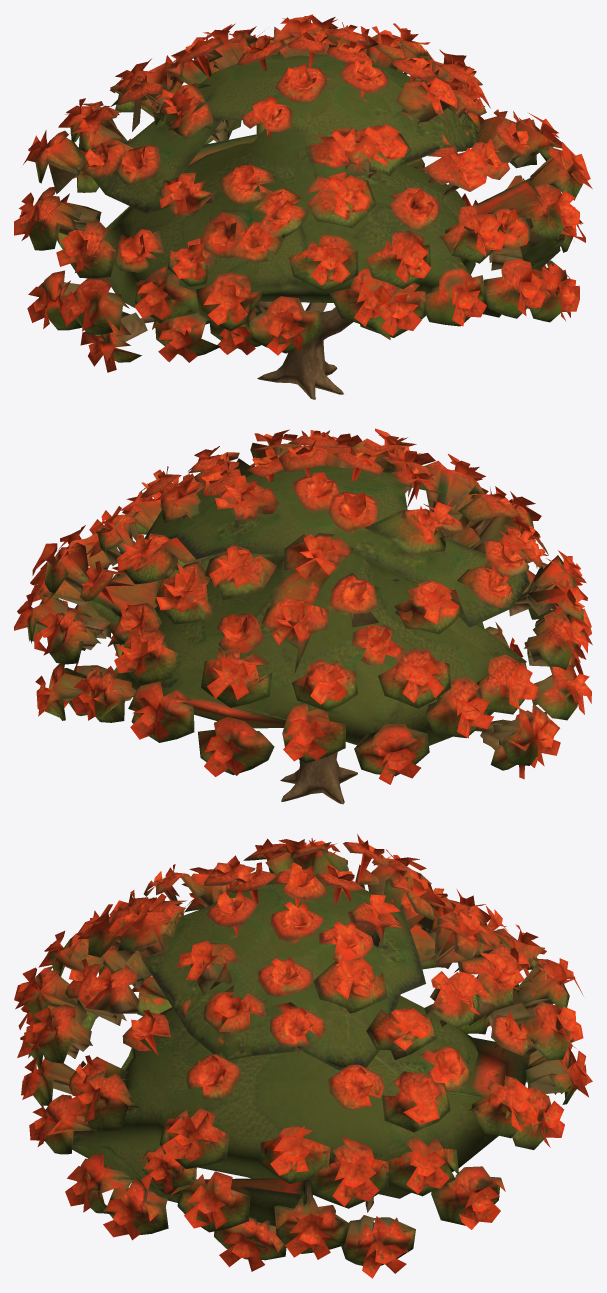
Rendered from orange+flowering+tree+3d+model.glb.
3 renders of one model, top to bottom at view 1: azimuth 30°, elevation 25°; view 2: azimuth 150°, elevation 25°; view 3: azimuth 270°, elevation 25°, orthographic. The views are drawn at different scales.
Visible parts, largest first — view 1: tripo_node_0d2240eb-bf51-4c14-8dc8-b22dce6b3254; view 2: tripo_node_0d2240eb-bf51-4c14-8dc8-b22dce6b3254; view 3: tripo_node_0d2240eb-bf51-4c14-8dc8-b22dce6b3254.
Boxes of the visible parts, box(x1,y1,x2,y2) form: tripo_node_0d2240eb-bf51-4c14-8dc8-b22dce6b3254: box(14, 14, 592, 399); tripo_node_0d2240eb-bf51-4c14-8dc8-b22dce6b3254: box(14, 428, 592, 804); tripo_node_0d2240eb-bf51-4c14-8dc8-b22dce6b3254: box(14, 834, 592, 1278).
Bounding box in the file's own units: 0.9995 × 0.647 × 0.9253.
1 material, 1 textured.
